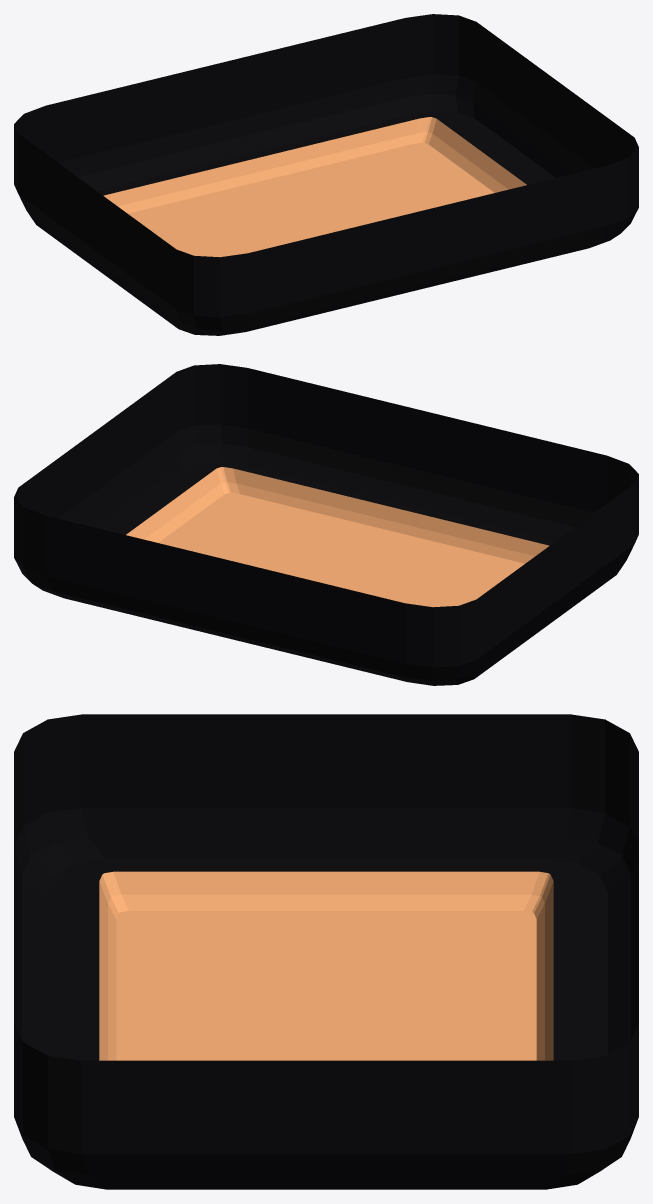
File: CeilingLamp.glb
3 renders of one model, top to bottom at view 1: azimuth 30°, elevation 25°; view 2: azimuth 150°, elevation 25°; view 3: azimuth 270°, elevation 25°, orthographic. The views are drawn at different scales.
Visible parts, largest first — view 1: CeilingLamp; view 2: CeilingLamp; view 3: CeilingLamp.
Part boxes in pixels (<box>): CeilingLamp: <box>14,14,638,335</box>; CeilingLamp: <box>14,364,638,685</box>; CeilingLamp: <box>14,714,638,1189</box>.
Size of the model in its own units: 0.2611 by 0.0522 by 0.1991.
